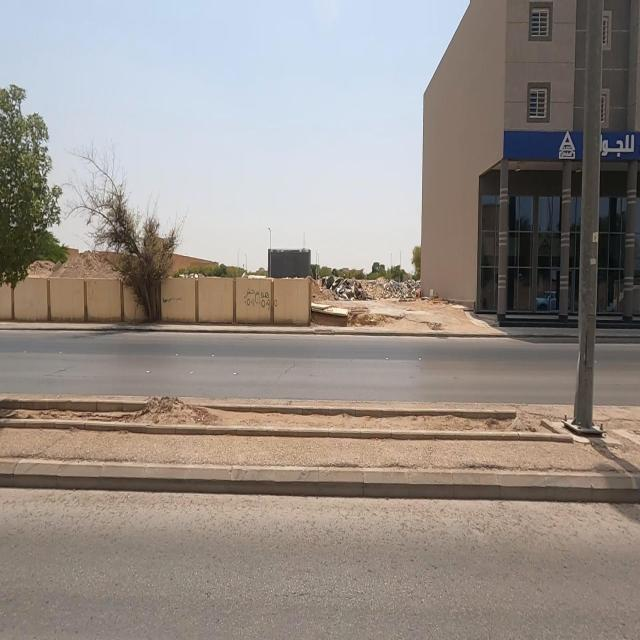Graffiti: (245, 288, 278, 313), (164, 294, 183, 306)
